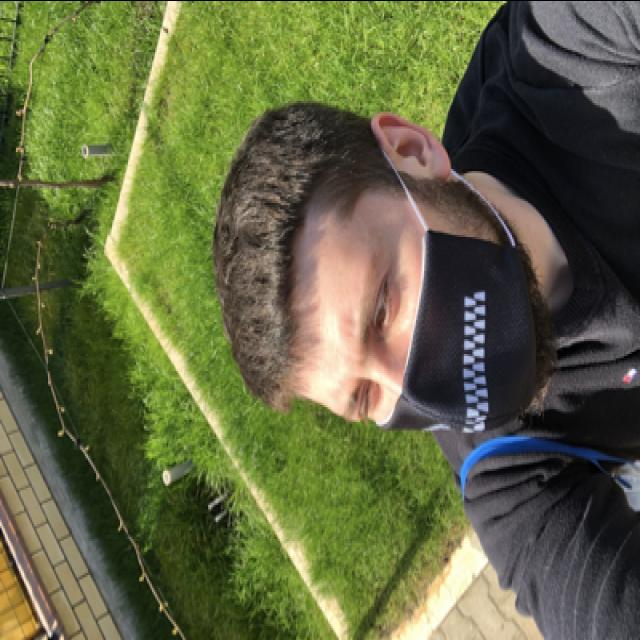mask: (324, 212, 554, 433)
